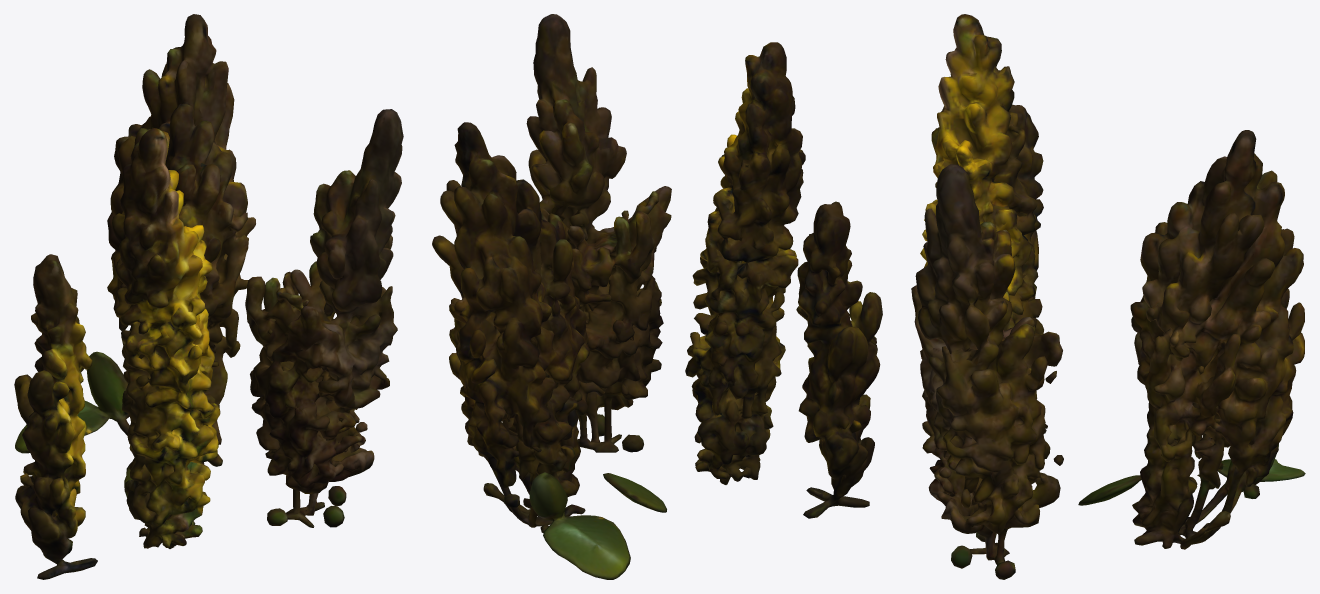
File: herb0022.gltf
The picture shows the model from 3 angles, left to right: view 1: azimuth 30°, elevation 25°; view 2: azimuth 150°, elevation 25°; view 3: azimuth 270°, elevation 25°; orthographic projection. The views are drawn at different scales.
Visible parts, largest first — view 1: Mesh_0; view 2: Mesh_0; view 3: Mesh_0.
Part boxes in pixels (left/top/right/bottom): Mesh_0: left=14, top=14, right=403, bottom=579; Mesh_0: left=432, top=14, right=882, bottom=579; Mesh_0: left=911, top=14, right=1305, bottom=579.
Bounding box in the file's own units: 1.71 × 1.99 × 1.54.
1 material, 1 textured.
